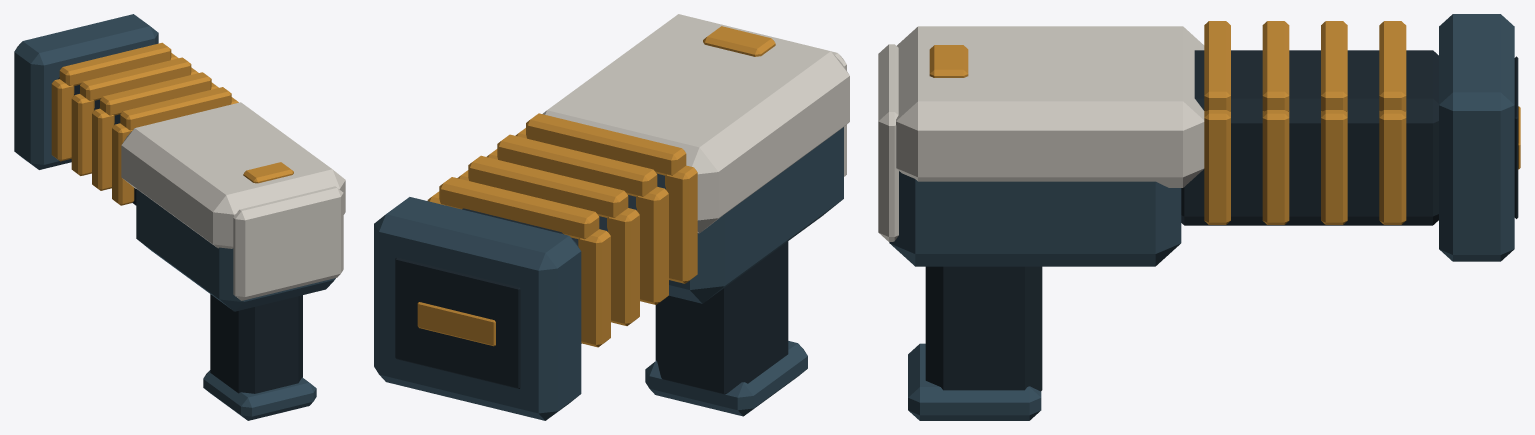
The model's file is coil-blaster.glb.
3 views of the same model, side by side, from view 1: azimuth 30°, elevation 25°; view 2: azimuth 150°, elevation 25°; view 3: azimuth 270°, elevation 25° (orthographic). The views are drawn at different scales.
Visible parts, largest first — view 1: coil-blaster; view 2: coil-blaster; view 3: coil-blaster.
Part boxes in pixels (x1,y1,x2,y2): coil-blaster: (14, 14, 345, 420); coil-blaster: (374, 14, 849, 420); coil-blaster: (878, 14, 1520, 420).
Bounding box in the file's own units: 0.19 × 0.327 × 0.55.
